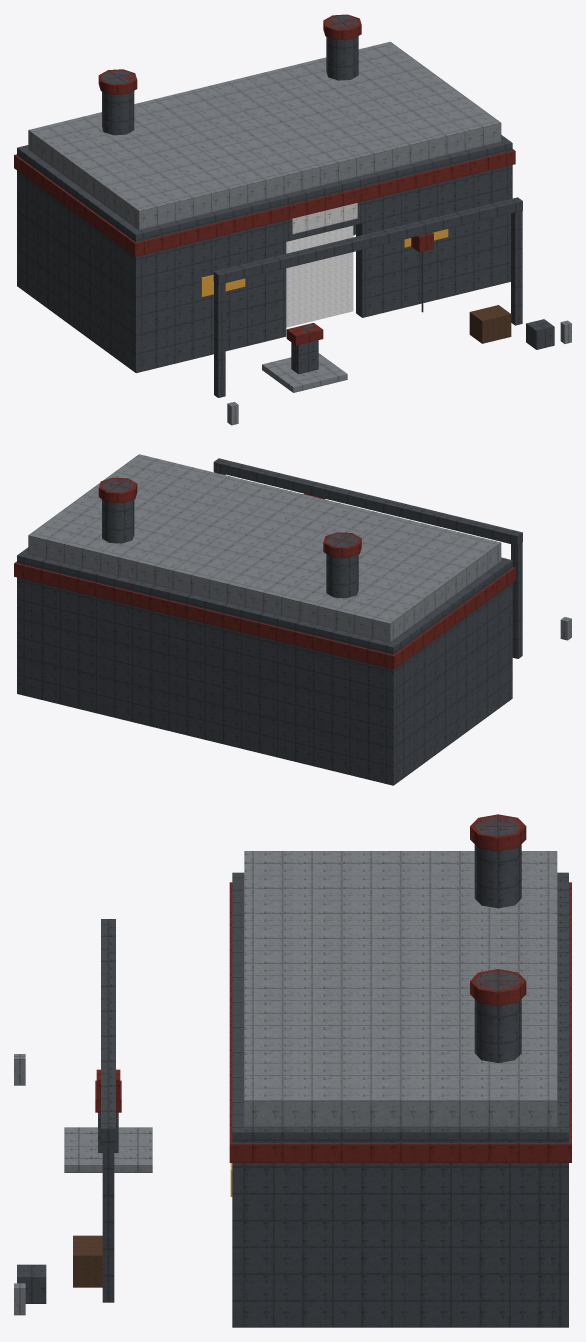
3 views of the same model, one above another, from view 1: azimuth 30°, elevation 25°; view 2: azimuth 150°, elevation 25°; view 3: azimuth 270°, elevation 25° (orthographic). The views are drawn at different scales.
Visible parts, largest first — view 1: garde_building_forge; view 2: garde_building_forge; view 3: garde_building_forge.
Part boxes in pixels (left/top/right/bottom): garde_building_forge: left=14, top=14, right=571, bottom=425; garde_building_forge: left=14, top=454, right=571, bottom=785; garde_building_forge: left=14, top=814, right=571, bottom=1327.
Bounding box in the file's own units: 21 × 11 × 18.9.
7 materials, 7 textured.
